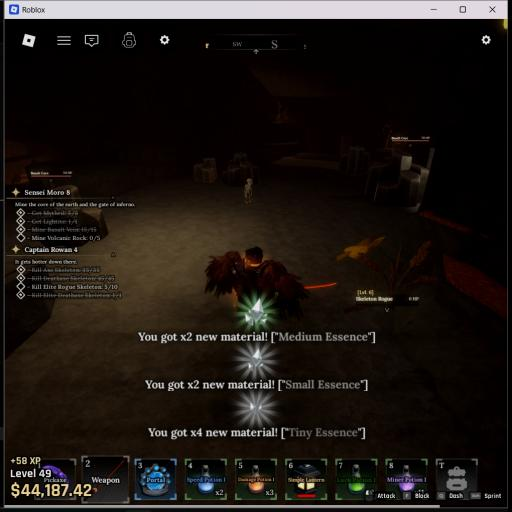player: (205, 246, 308, 319)
rock: (25, 185, 108, 252), (4, 261, 55, 358), (364, 152, 429, 206), (222, 153, 259, 186), (338, 146, 369, 175), (194, 158, 216, 182)
